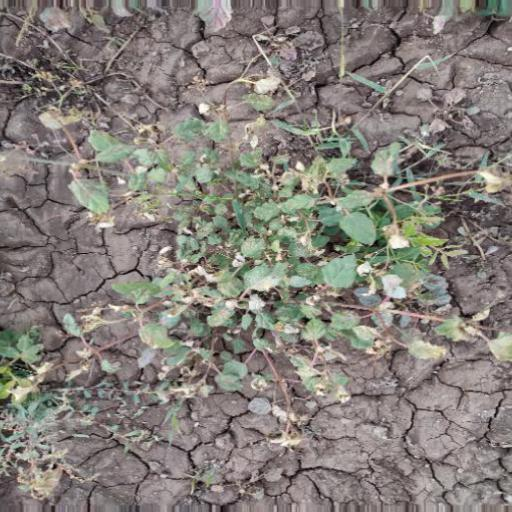weed: (42, 121, 512, 420)
